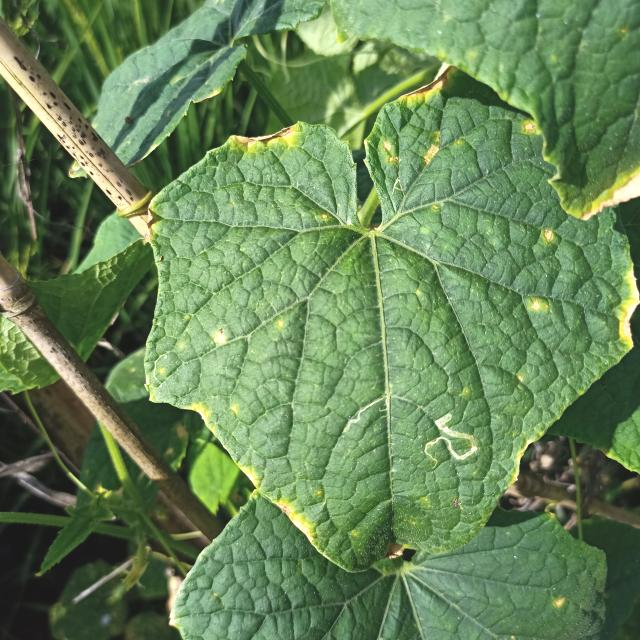disease_cucumber: (377, 84, 450, 178), (182, 394, 243, 432), (526, 293, 552, 322), (537, 226, 560, 248), (210, 328, 232, 349)
